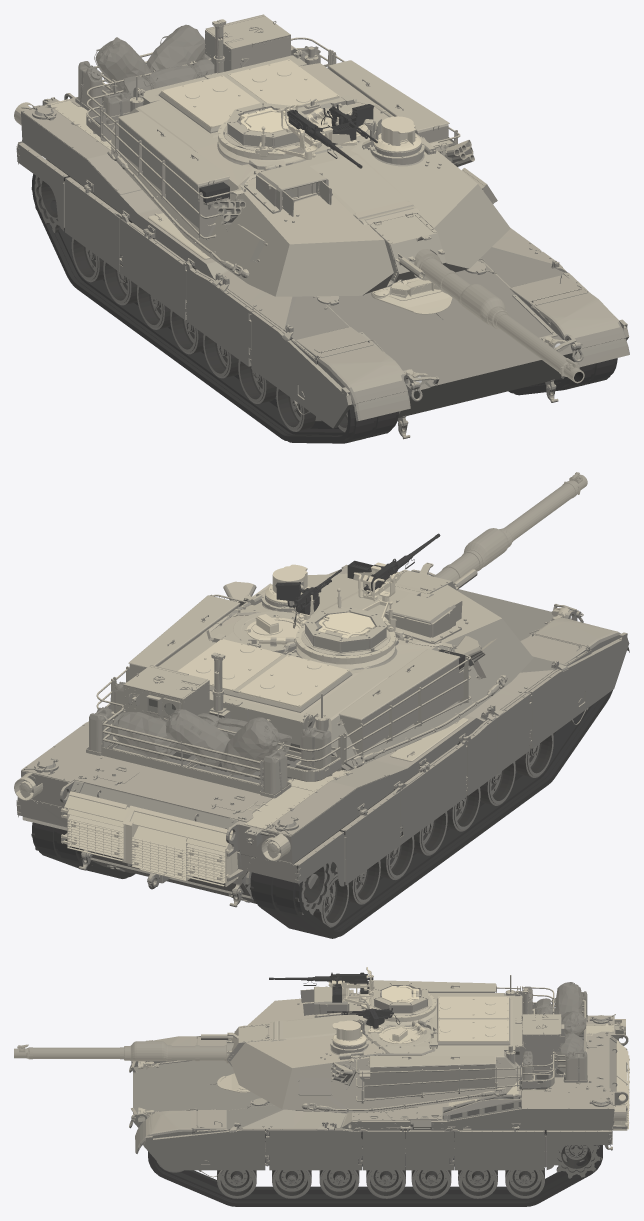
Rendered from vehicle.glb.
The picture shows the model from 3 angles, top to bottom: view 1: azimuth 30°, elevation 25°; view 2: azimuth 150°, elevation 25°; view 3: azimuth 270°, elevation 25°; orthographic projection. The views are drawn at different scales.
Visible parts, largest first — view 1: g0021 bone_turret, g0000 root, g0000_front_glacis front_glacis, g0101 track_r, g0064 ex_armor_r_01, g0036 ex_armor_r_09, g0072 ex_decor_r_01, g0074 ex_decor_l_01, g0029 gun_barrel, g0069 ex_armor_r_06, g0048 ex_armor_04, g0034 ex_armor_l_09 (+31 smaller); view 2: g0021 bone_turret, g0000 root, g0101 track_r, g0090 hatch_14, g0036 ex_armor_r_09, g0064 ex_armor_r_01, g0089 hatch_13, g0029 gun_barrel, g0069 ex_armor_r_06, g0048 ex_armor_04, g0032 ex_armor_02, g0034 ex_armor_l_09 (+38 smaller); view 3: g0021 bone_turret, g0000 root, g0102 track_l, g0000_front_glacis front_glacis, g0034 ex_armor_l_09, g0057 ex_armor_l_01, g0062 ex_armor_l_06, g0029 gun_barrel, g0058 ex_armor_l_02, g0061 ex_armor_l_05, g0048 ex_armor_04, g0060 ex_armor_l_04 (+30 smaller).
Part boxes in pixels (bbox=[...]): g0021 bone_turret: bbox=[75, 19, 510, 296]; g0000 root: bbox=[21, 45, 586, 439]; g0000_front_glacis front_glacis: bbox=[284, 247, 572, 390]; g0101 track_r: bbox=[32, 159, 398, 443]; g0064 ex_armor_r_01: bbox=[250, 309, 352, 428]; g0036 ex_armor_r_09: bbox=[118, 111, 229, 228]; g0072 ex_decor_r_01: bbox=[314, 340, 410, 421]; g0074 ex_decor_l_01: bbox=[529, 285, 629, 367]; g0029 gun_barrel: bbox=[414, 249, 584, 383]; g0069 ex_armor_r_06: bbox=[63, 177, 123, 271]; g0048 ex_armor_04: bbox=[205, 14, 290, 71]; g0034 ex_armor_l_09: bbox=[328, 60, 455, 148]; g0021 bone_turret: bbox=[86, 572, 533, 798]; g0000 root: bbox=[21, 569, 588, 907]; g0101 track_r: bbox=[250, 650, 612, 938]; g0090 hatch_14: bbox=[122, 805, 237, 886]; g0036 ex_armor_r_09: bbox=[337, 649, 464, 750]; g0064 ex_armor_r_01: bbox=[525, 632, 629, 748]; g0089 hatch_13: bbox=[61, 791, 130, 863]; g0029 gun_barrel: bbox=[434, 472, 587, 582]; g0069 ex_armor_r_06: bbox=[341, 787, 401, 884]; g0048 ex_armor_04: bbox=[123, 665, 209, 720]; g0032 ex_armor_02: bbox=[238, 655, 349, 707]; g0034 ex_armor_l_09: bbox=[128, 595, 240, 679]; g0021 bone_turret: bbox=[230, 975, 587, 1112]; g0000 root: bbox=[129, 1014, 628, 1166]; g0102 track_l: bbox=[148, 1128, 602, 1206]; g0000_front_glacis front_glacis: bbox=[133, 1040, 283, 1129]; g0034 ex_armor_l_09: bbox=[358, 1056, 500, 1097]; g0057 ex_armor_l_01: bbox=[143, 1122, 268, 1177]; g0062 ex_armor_l_06: bbox=[450, 1126, 546, 1170]; g0029 gun_barrel: bbox=[14, 1041, 233, 1063]; g0058 ex_armor_l_02: bbox=[266, 1121, 327, 1170]; g0061 ex_armor_l_05: bbox=[405, 1127, 453, 1170]; g0048 ex_armor_04: bbox=[522, 1012, 565, 1074]; g0060 ex_armor_l_04: bbox=[358, 1127, 405, 1170].
Size of the model in its own units: 3.68 by 3.12 by 9.81.
Materials: 40 (22 with a texture image).
